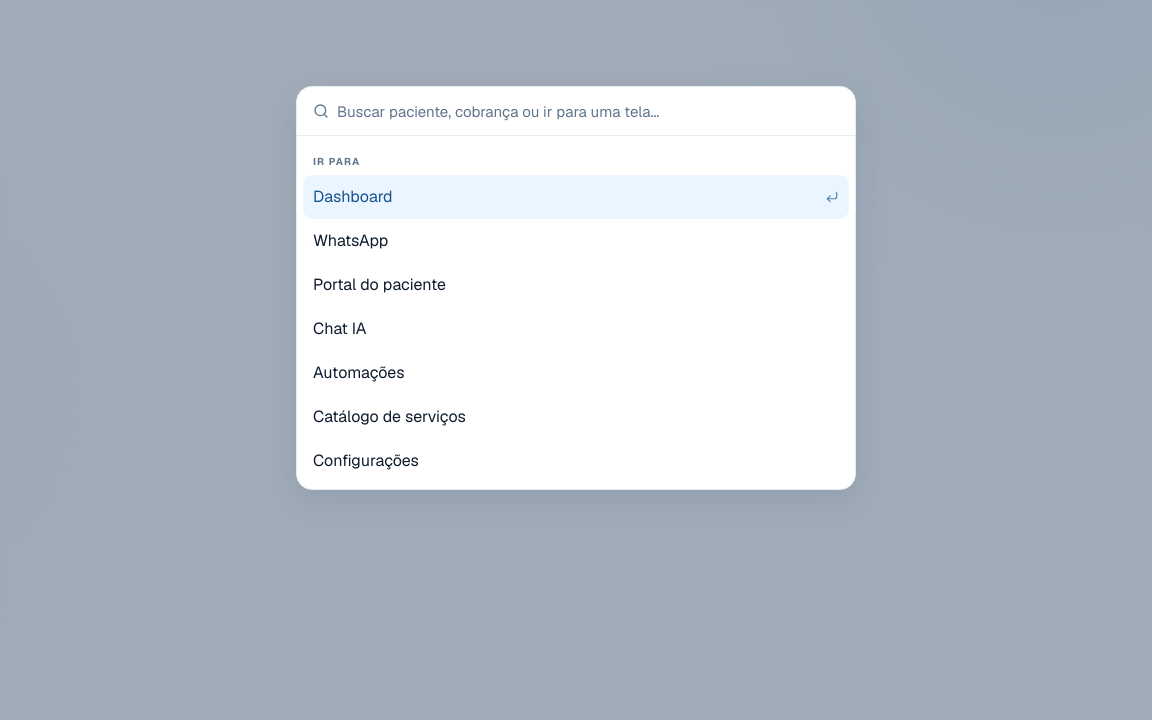
estado vazio › avisa o que É e o que NÃO é pesquisável
Type "zzzzzzzz" into the dropdown at (588, 111), box [337,87,839,135]
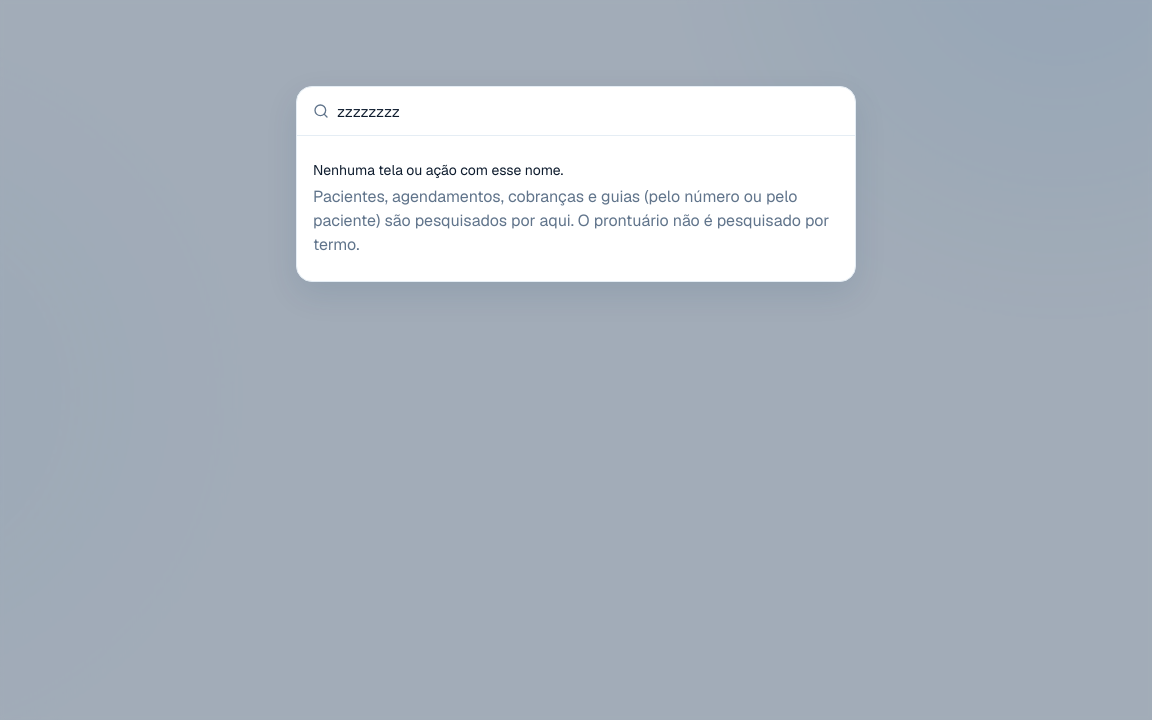
Expected: the text "Nenhuma tela ou ação com esse nome." is shown, [313,161,563,179]
Expected: the text "guias (pelo número ou pelo paciente)" is shown, [313,186,829,255]
